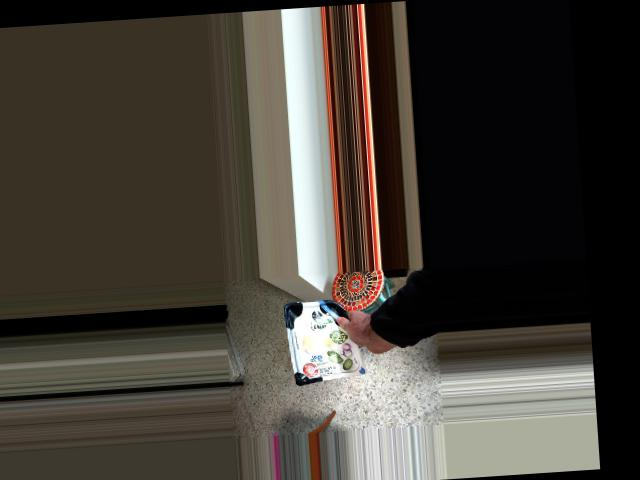cheese: (300, 297, 390, 384)
